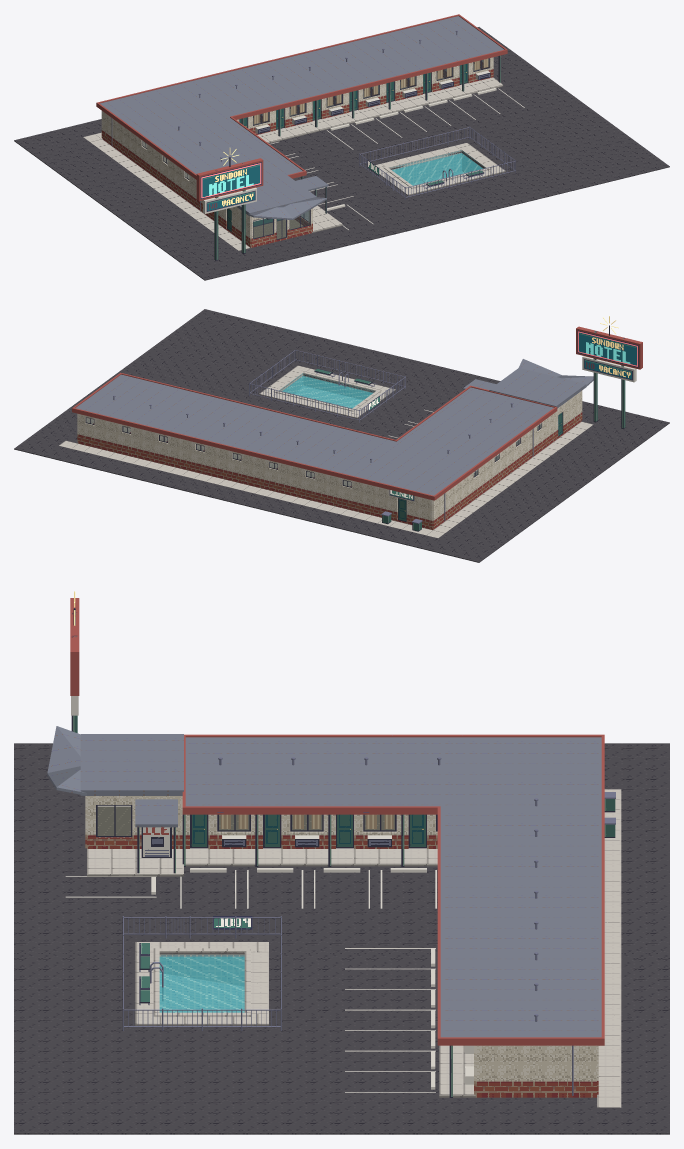
Rendered from roadside-motel.glb.
3 views of the same model, one above another, from view 1: azimuth 30°, elevation 25°; view 2: azimuth 150°, elevation 25°; view 3: azimuth 270°, elevation 25° (orthographic). The views are drawn at different scales.
Visible parts, largest first — view 1: lot__ground_asphalt, structure__roof_built_up, lot__ground_paving, structure__detail_utility, structure__wall_stucco, pool__detail_utility, structure__wall_brick_base, pool__ground_paving, pool__water_pool, sign_name, lot__detail_utility, roadside_sign__detail_utility (+4 smaller); view 2: lot__ground_asphalt, structure__roof_built_up, structure__wall_stucco, lot__ground_paving, structure__wall_brick_base, structure__detail_utility, pool__detail_utility, pool__ground_paving, pool__water_pool, sign_name_back, roadside_sign__detail_utility, structure__glass_motel (+2 smaller); view 3: lot__ground_asphalt, structure__roof_built_up, lot__ground_paving, structure__detail_utility, structure__wall_stucco, pool__detail_utility, pool__ground_paving, pool__water_pool, structure__wall_brick_base, lot__detail_utility, structure__trim_teal, structure__glass_motel (+2 smaller).
Boxes of the visible parts, x1,y1,x2,y2 form: lot__ground_asphalt: [14, 27, 669, 280]; structure__roof_built_up: [100, 16, 503, 219]; lot__ground_paving: [83, 77, 503, 250]; structure__detail_utility: [96, 14, 507, 238]; structure__wall_stucco: [101, 57, 493, 238]; pool__detail_utility: [359, 126, 515, 199]; structure__wall_brick_base: [101, 61, 493, 247]; pool__ground_paving: [375, 143, 505, 195]; pool__water_pool: [392, 153, 482, 185]; sign_name: [200, 162, 261, 199]; lot__detail_utility: [269, 88, 524, 230]; roadside_sign__detail_utility: [196, 158, 263, 213]; lot__ground_asphalt: [14, 309, 669, 562]; structure__roof_built_up: [75, 359, 593, 495]; structure__wall_stucco: [77, 390, 582, 520]; lot__ground_paving: [59, 421, 593, 538]; structure__wall_brick_base: [77, 412, 582, 529]; structure__detail_utility: [72, 372, 557, 521]; pool__detail_utility: [249, 349, 405, 422]; pool__ground_paving: [259, 365, 395, 418]; pool__water_pool: [282, 376, 372, 408]; sign_name_back: [577, 330, 638, 367]; roadside_sign__detail_utility: [576, 326, 642, 382]; structure__glass_motel: [85, 417, 541, 487]; lot__ground_asphalt: [14, 743, 669, 1134]; structure__roof_built_up: [47, 726, 601, 1037]; lot__ground_paving: [87, 789, 621, 1107]; structure__detail_utility: [97, 734, 604, 1095]; structure__wall_stucco: [85, 796, 598, 1081]; pool__detail_utility: [122, 916, 281, 1030]; pool__ground_paving: [135, 942, 268, 1025]; pool__water_pool: [159, 956, 244, 1012]; structure__wall_brick_base: [85, 834, 598, 1097]; lot__detail_utility: [65, 868, 436, 1092]; structure__trim_teal: [137, 814, 452, 1097]; structure__glass_motel: [96, 805, 132, 837].
Size of what is drawn, in the model's own units: 47.18 by 12.42 by 33.52.
12 materials, 12 textured.
